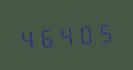five: (94, 17, 112, 45)
four: (56, 20, 74, 49), (18, 24, 36, 52)
six: (37, 22, 55, 50)
zero: (75, 19, 93, 47)
